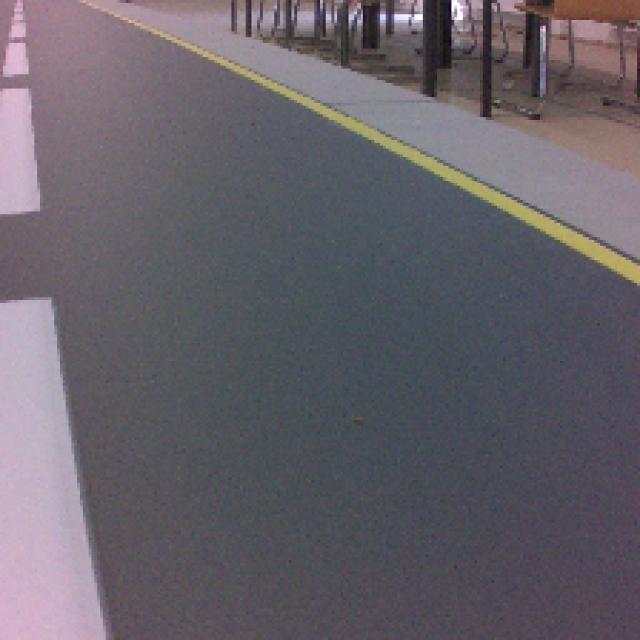Road: (54, 242, 640, 640)
